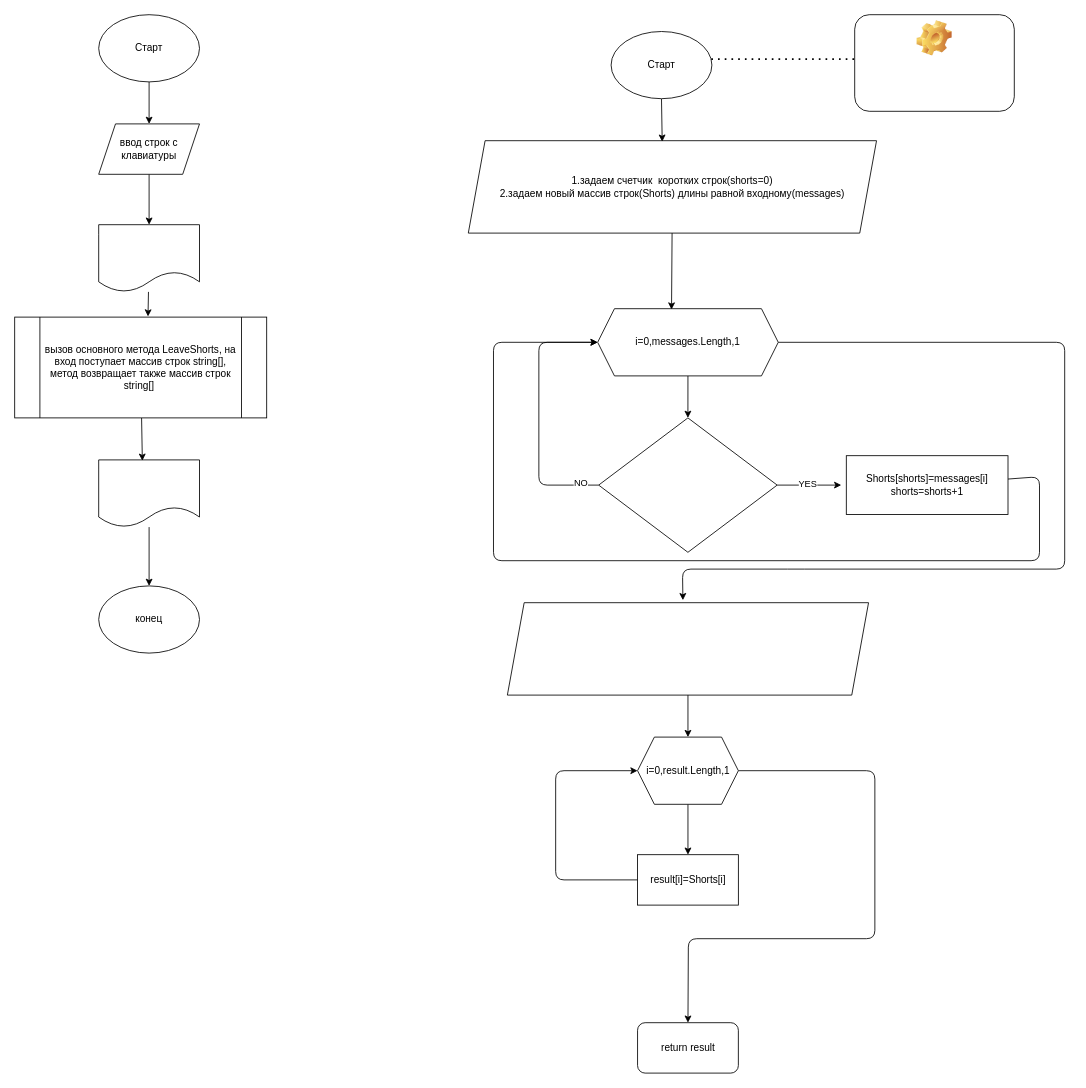
The diagram is 1086 pixels wide and 1088 high, and some of its shapes have lost their labels. Each missing label, with the centre of its shape:
LeaveShorts(string[] messages) //Основной метод // возвращает string[]: the point at 934,62
messages[i].Length<=3?: the point at 687,484
Вывод массива строк на экран: the point at 149,258
вывод результуирующего массива строк на экран: the point at 149,493
Задаем выходной массив строк(result) размером shorts: the point at 688,648
